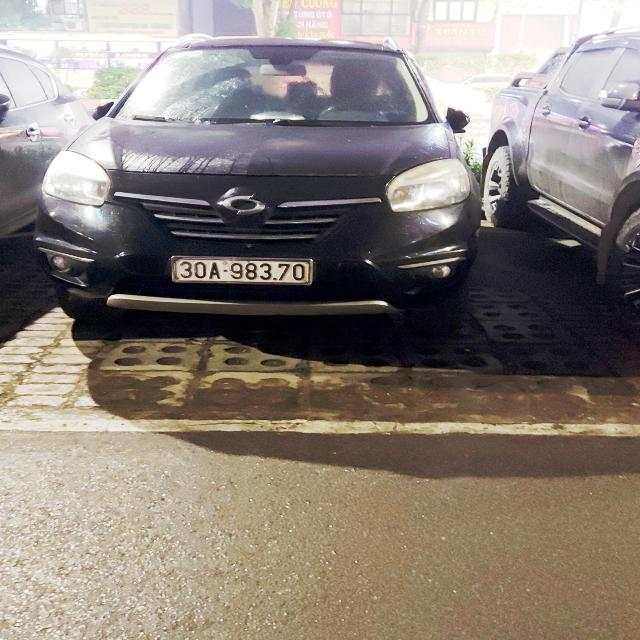license_plate: (172, 255, 315, 285)
